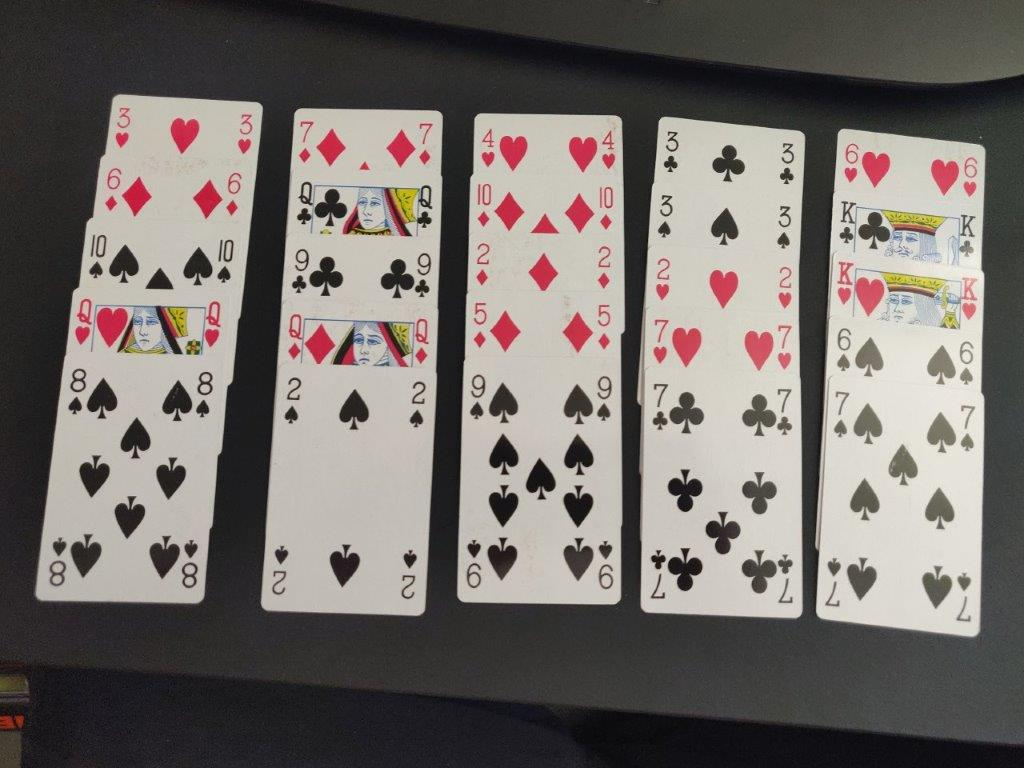10D: (470, 178, 496, 234), (595, 181, 620, 234)
10S: (212, 232, 239, 292), (86, 225, 111, 282)
2D: (591, 240, 615, 294), (472, 239, 495, 287)
2H: (652, 256, 678, 301), (775, 262, 796, 311)
2S: (403, 373, 432, 436), (281, 372, 307, 430)
3C: (774, 139, 799, 189), (661, 126, 684, 175)
3H: (111, 100, 136, 152), (235, 109, 259, 159)
3S: (656, 188, 674, 246), (773, 203, 793, 253)
4H: (596, 124, 620, 175), (475, 125, 498, 169)
5D: (593, 300, 616, 354), (469, 298, 491, 352)
6D: (101, 162, 126, 217), (221, 165, 244, 217)
6H: (840, 139, 863, 187), (960, 154, 981, 201)
6S: (831, 323, 856, 374), (957, 336, 976, 391)
7C: (647, 380, 676, 436), (770, 385, 797, 440)
7D: (294, 115, 319, 167), (414, 120, 438, 171)
7H: (649, 315, 674, 367), (774, 320, 794, 369)
7S: (830, 386, 852, 442), (955, 401, 978, 454)
8S: (193, 360, 217, 428), (64, 364, 90, 418)
9C: (286, 245, 312, 297), (411, 251, 435, 302)
9S: (593, 371, 617, 426), (467, 369, 488, 424)
KC: (956, 211, 979, 263), (836, 196, 859, 245)
KH: (958, 272, 984, 328), (835, 257, 860, 309)
QC: (413, 181, 438, 236), (294, 177, 318, 228)
QD: (410, 313, 433, 367), (285, 311, 309, 362)
QH: (203, 299, 226, 353), (74, 293, 96, 349)
